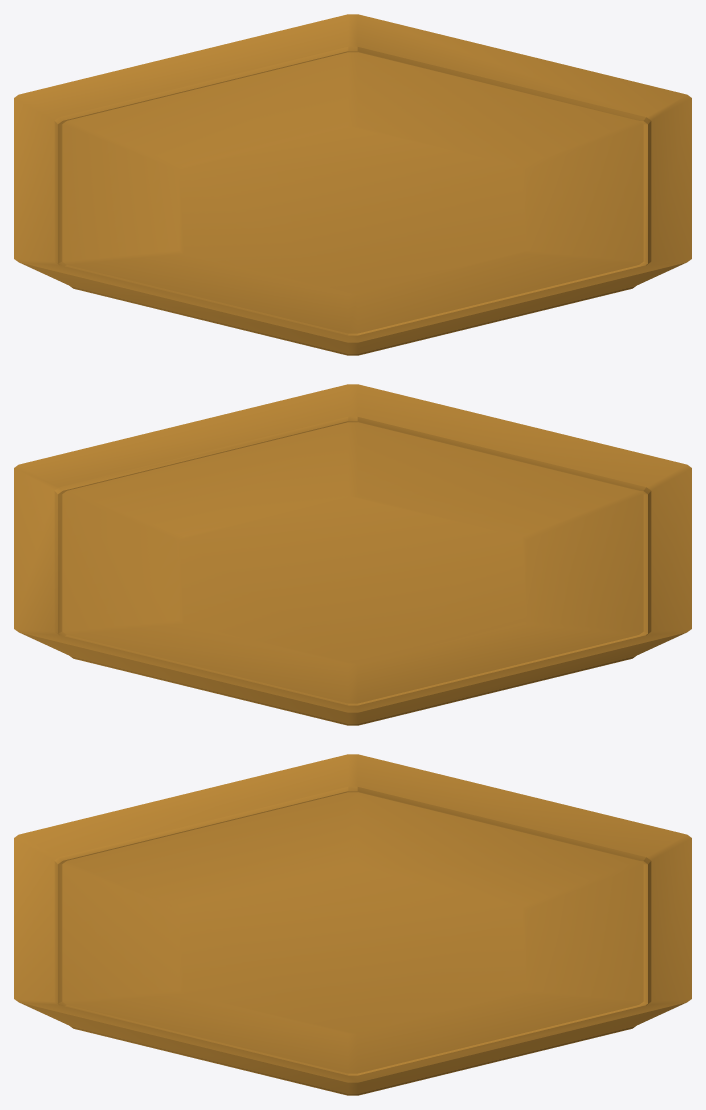
The model's file is obj_plateBig.FBX.
3 renders of one model, top to bottom at view 1: azimuth 30°, elevation 25°; view 2: azimuth 150°, elevation 25°; view 3: azimuth 270°, elevation 25°, orthographic.
Parts seen in each view (by area): view 1: obj_plateBig; view 2: obj_plateBig; view 3: obj_plateBig.
Part boxes in pixels (x1,y1,x2,y2): obj_plateBig: [14, 14, 691, 355]; obj_plateBig: [14, 384, 691, 725]; obj_plateBig: [14, 754, 691, 1095].
Bounding box in the file's own units: 1.85 × 0.2636 × 1.61.
